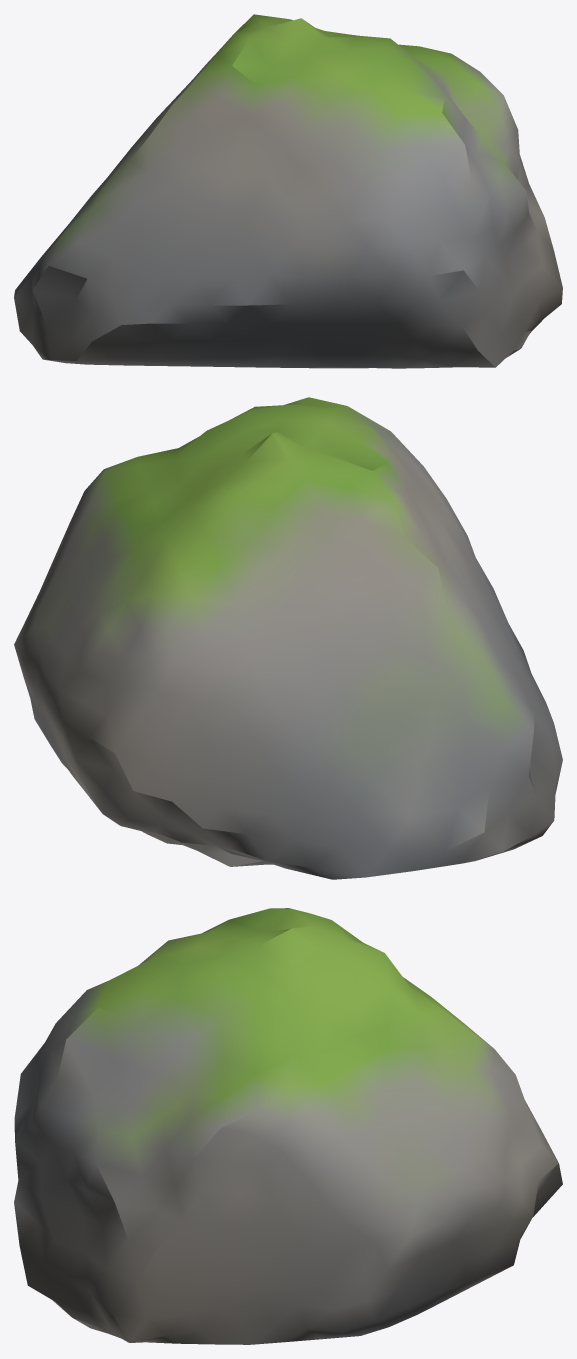
The model's file is Rock_D.fbx.
3 views of the same model, one above another, from view 1: azimuth 30°, elevation 25°; view 2: azimuth 150°, elevation 25°; view 3: azimuth 270°, elevation 25° (orthographic). The views are drawn at different scales.
Parts seen in each view (by area): view 1: Rock_D; view 2: Rock_D; view 3: Rock_D.
Boxes of the visible parts, x1,y1,x2,y2 form: Rock_D: (14,14,562,368); Rock_D: (14,397,562,879); Rock_D: (14,908,562,1344).
Bounding box in the file's own units: 1.84 × 1.3 × 1.78.
